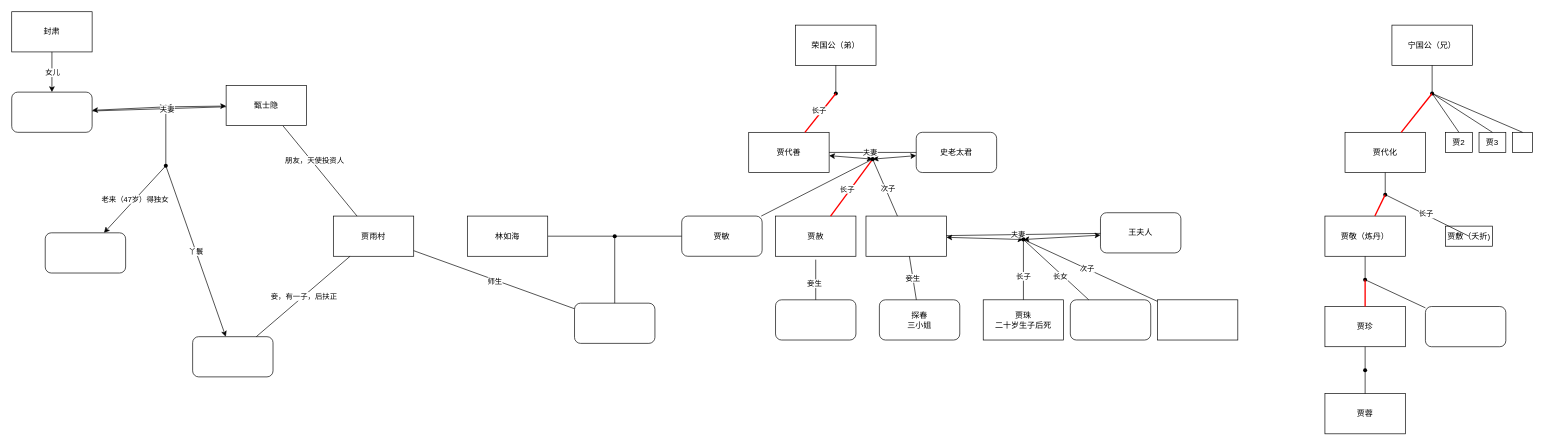
This 1544x446 diagram has some shape labels left out. The shapes that lost their labels are listed below. From the top down, each one's centre as x and y in pixels, then its label:
the point at 51,111: 封氏
the point at 1522,142: 贾4
the point at 85,252: 英莲（香菱）四岁时走失
the point at 905,235: 贾政 工部主事 —— 员外郎
the point at 614,323: 林黛玉
the point at 815,319: 迎春 二小姐
the point at 1110,319: 元春 大小姐？
the point at 1197,319: 贾宝玉
the point at 1465,326: 惜春 四小姐
the point at 232,356: 娇杏
